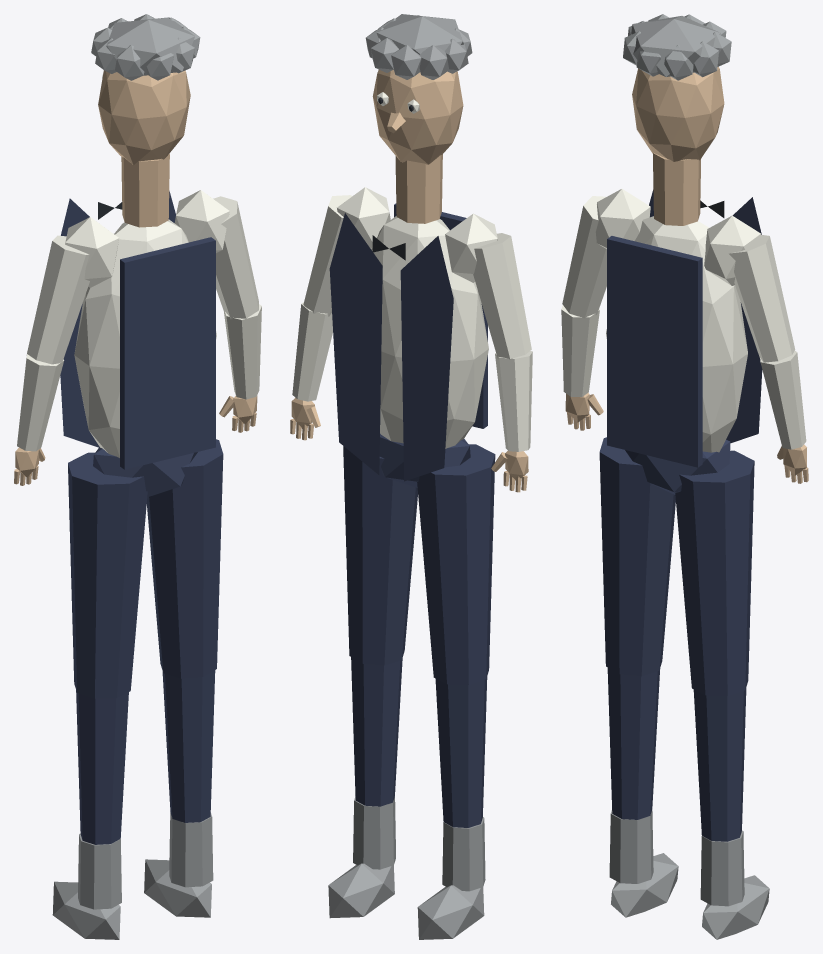
Rendered from OutfitAndrei.fbx.
3 renders of one model, left to right at view 1: azimuth 30°, elevation 25°; view 2: azimuth 150°, elevation 25°; view 3: azimuth 330°, elevation 25°, orthographic. The views are drawn at different scales.
Parts seen in each view (by area): view 1: VestBack, ThighLeft, ThighRight, Torso, CalfLeft, Face, CalfRight, SleeveLeft, SleeveRight, Neck, HairTop, BootTopLeft (+12 smaller); view 2: ThighLeft, ThighRight, Torso, VestFront, VestFront.001, CalfLeft, CalfRight, Face, SleeveLeft, ForearmSleeveLeft, Neck, FootRight (+15 smaller); view 3: VestBack, ThighRight, ThighLeft, Torso, CalfRight, Face, CalfLeft, SleeveRight, SleeveLeft, Neck, ForearmSleeveRight, BootTopRight (+13 smaller).
Boxes of the visible parts, bbox=[...] form: VestBack: bbox=[120, 237, 215, 469]; ThighLeft: bbox=[68, 452, 147, 698]; ThighRight: bbox=[146, 439, 223, 678]; Torso: bbox=[74, 219, 216, 457]; CalfLeft: bbox=[76, 690, 128, 844]; Face: bbox=[98, 70, 190, 164]; CalfRight: bbox=[162, 670, 215, 822]; SleeveLeft: bbox=[27, 235, 89, 364]; SleeveRight: bbox=[213, 196, 258, 319]; Neck: bbox=[121, 154, 169, 227]; HairTop: bbox=[106, 17, 194, 75]; BootTopLeft: bbox=[78, 833, 121, 909]; ThighLeft: bbox=[417, 444, 495, 684]; ThighRight: bbox=[343, 446, 417, 665]; Torso: bbox=[371, 216, 488, 448]; VestFront: bbox=[329, 213, 382, 474]; VestFront.001: bbox=[400, 236, 453, 481]; CalfLeft: bbox=[435, 676, 487, 827]; CalfRight: bbox=[351, 657, 402, 806]; Face: bbox=[372, 69, 463, 164]; SleeveLeft: bbox=[473, 233, 531, 359]; ForearmSleeveLeft: bbox=[495, 351, 532, 451]; Neck: bbox=[395, 154, 442, 223]; FootRight: bbox=[328, 863, 394, 918]; VestBack: bbox=[607, 236, 702, 467]; ThighRight: bbox=[675, 450, 754, 695]; ThighLeft: bbox=[599, 437, 675, 676]; Torso: bbox=[606, 216, 747, 452]; CalfRight: bbox=[693, 688, 746, 841]; Face: bbox=[632, 67, 724, 161]; CalfLeft: bbox=[607, 668, 660, 819]; SleeveRight: bbox=[729, 234, 795, 362]; SleeveLeft: bbox=[562, 196, 606, 318]; Neck: bbox=[653, 153, 700, 225]; ForearmSleeveRight: bbox=[760, 350, 806, 449]; BootTopRight: bbox=[700, 830, 744, 906].
Size of the model in its own units: 0.4823 by 1.75 by 0.2244.
